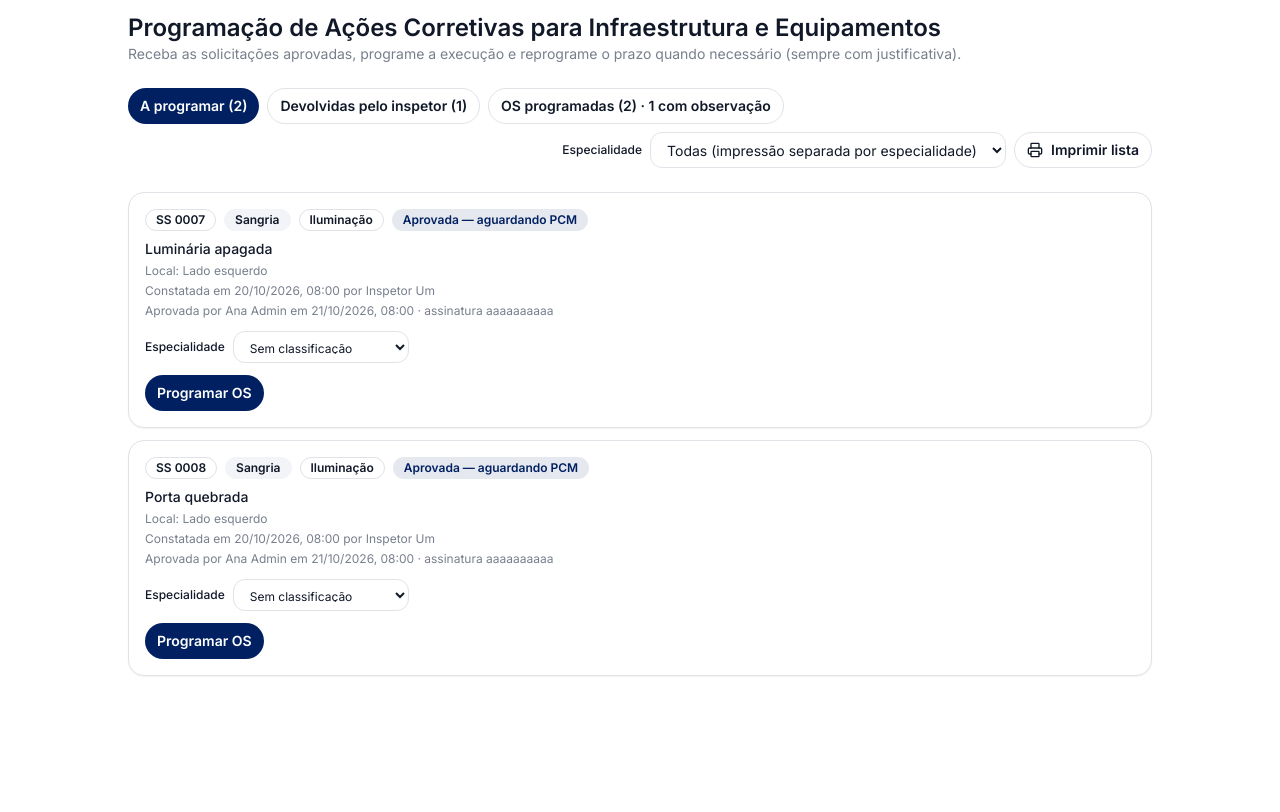
PCM — listas imprimíveis › a aba 'OS programadas' imprime todas as OS e respeita a busca
This screenshot has width=1280, height=812.
Click the tab "OS programadas (2) · 1 com observação".
click(636, 106)  # box 488,88 -> 784,124
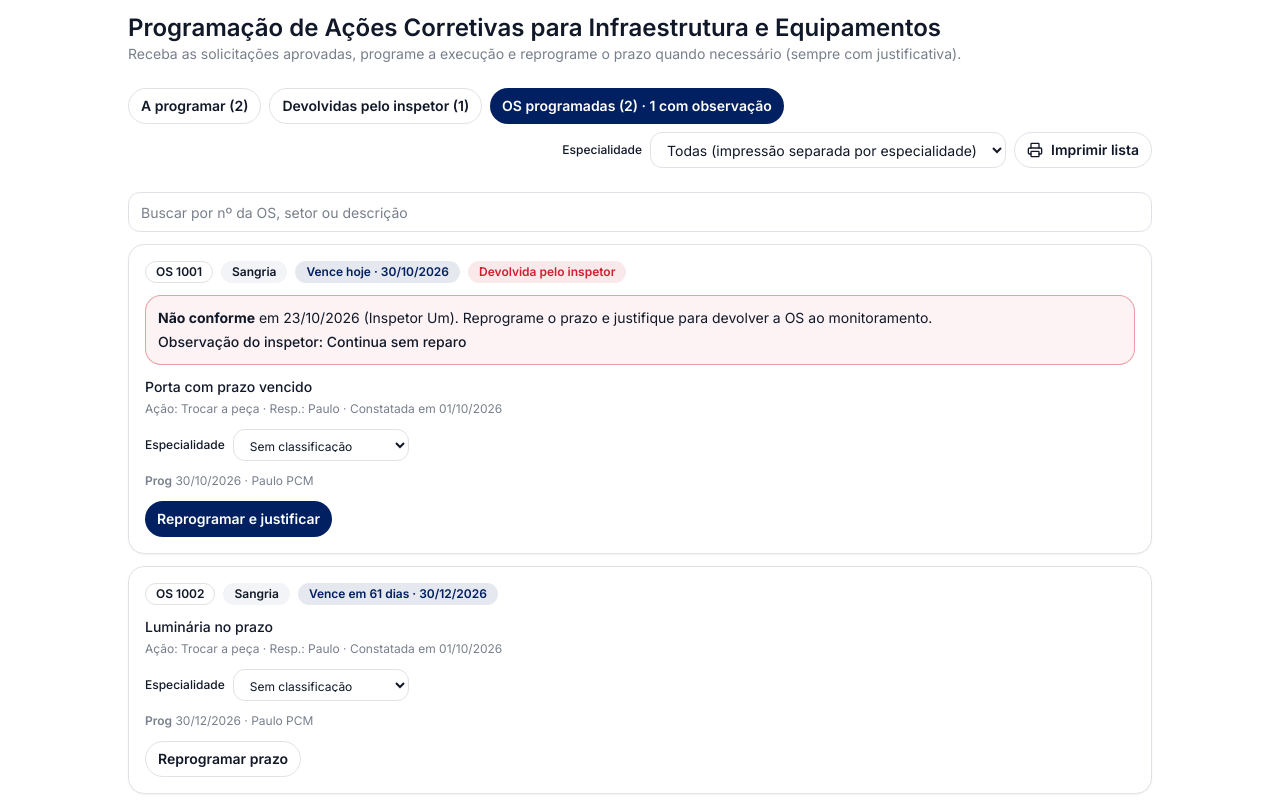
Type "1002" into the field named "Buscar OS".
click(640, 212); type("1002")  # box 128,192 -> 1152,232
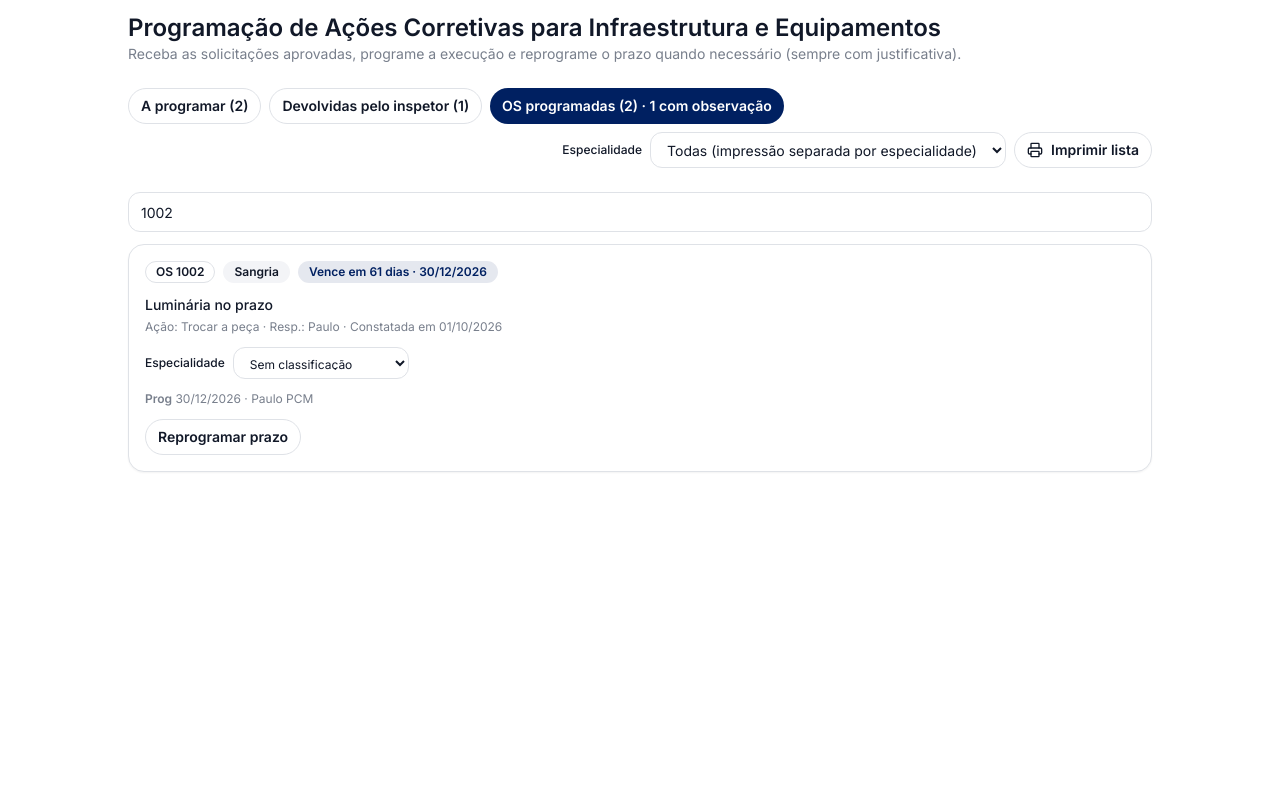
Expected: the text "Porta com prazo vencido" is gone
